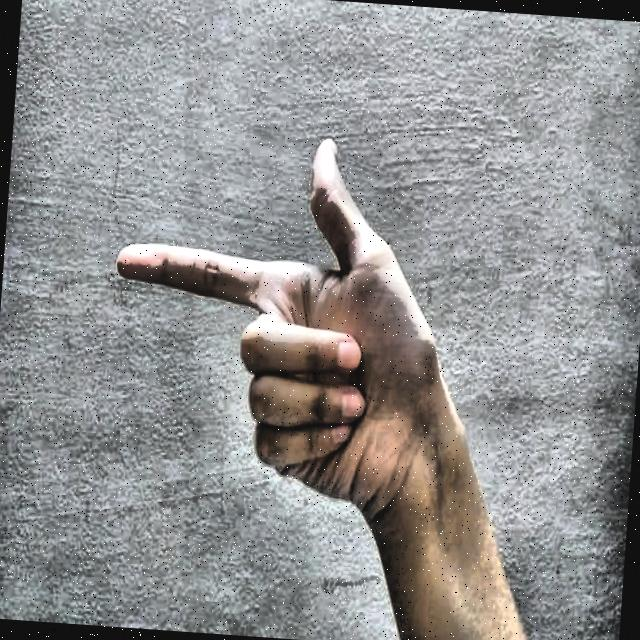Tho: (74, 87, 544, 541)
